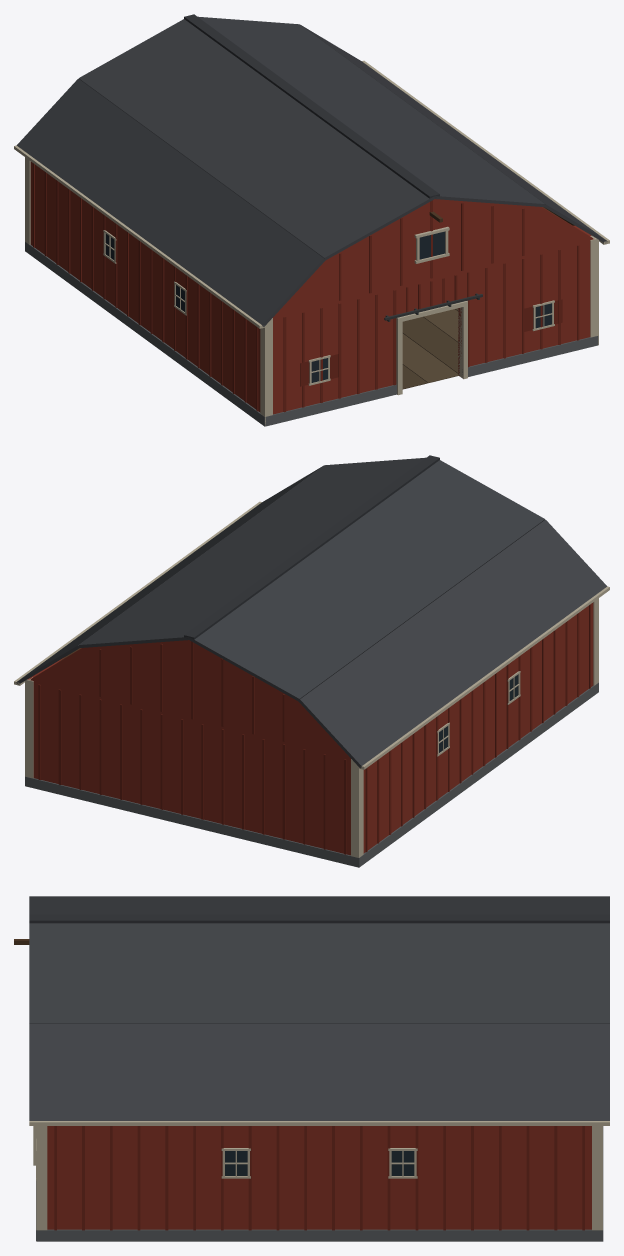
Rendered from bldg_barn.glb.
3 views of the same model, one above another, from view 1: azimuth 30°, elevation 25°; view 2: azimuth 150°, elevation 25°; view 3: azimuth 270°, elevation 25° (orthographic). The views are drawn at different scales.
Parts seen in each view (by area): view 1: Roof, Walls, Interior; view 2: Roof, Walls; view 3: Roof, Walls.
Part boxes in pixels (x1,y1,x2,y2): Roof: (14,14,609,328); Walls: (25,157,598,426); Interior: (402,207,574,389); Roof: (14,455,609,769); Walls: (25,598,598,867); Roof: (29,896,609,1125); Walls: (14,939,603,1241).
Bounding box in the file's own units: 17.2 × 9.04 × 21.45.
